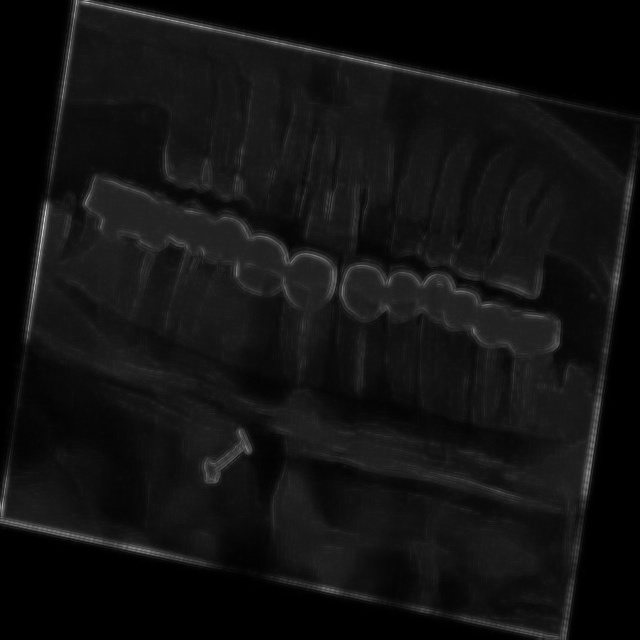Class 0- No endodontic treatment: (258, 233, 402, 419), (148, 187, 249, 373)
Class 1- complete endodontic treatment: (446, 282, 572, 472), (46, 144, 155, 332)
cavity: (149, 34, 384, 244), (372, 99, 573, 307)
